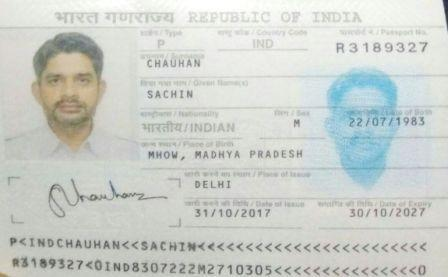DOB: (347, 114, 431, 127)
Surname: (145, 57, 205, 70)
country_code: (246, 36, 280, 51)
date_of_expiry: (347, 207, 432, 221)
date_of_issue: (192, 206, 274, 219)
details: (5, 231, 432, 277)
name: (145, 88, 200, 100)
nationality: (141, 119, 238, 135)
passport_no: (334, 40, 430, 53)
photo: (16, 35, 141, 162)
place_of_birth: (146, 148, 307, 161)
place_of_issue: (192, 177, 232, 190)
sex: (290, 117, 304, 128)
sign: (36, 176, 167, 219)
type: (152, 36, 170, 51)
